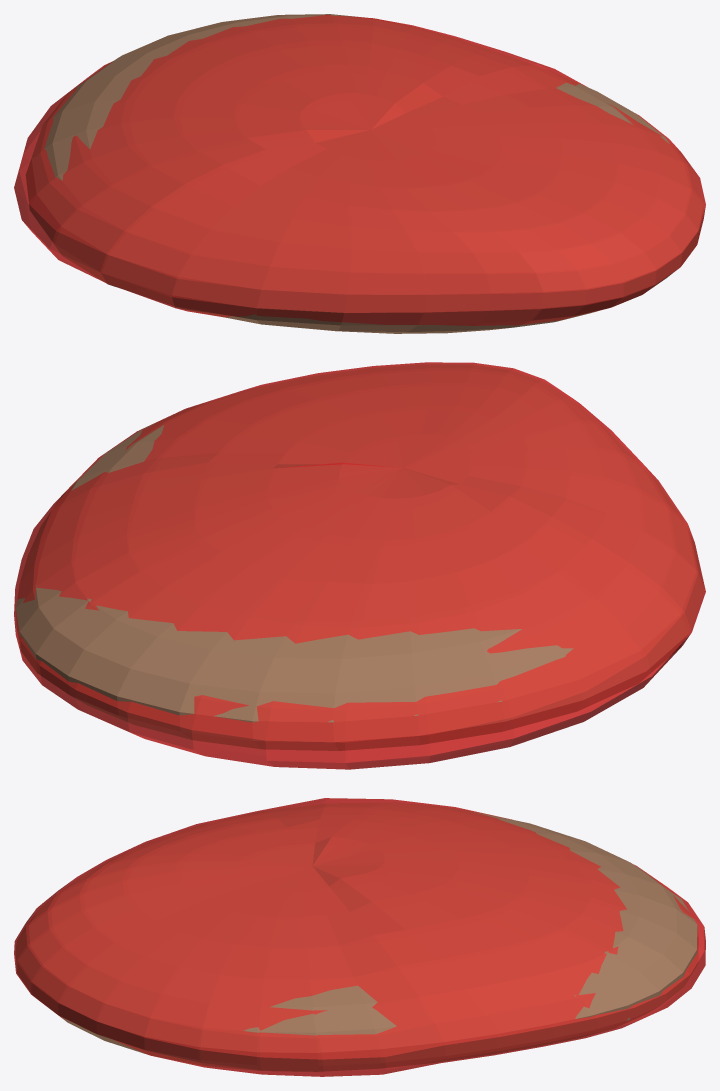
Rendered from CookedChickenParmYum.fbx.
The picture shows the model from 3 angles, top to bottom: view 1: azimuth 30°, elevation 25°; view 2: azimuth 150°, elevation 25°; view 3: azimuth 270°, elevation 25°; orthographic projection. The views are drawn at different scales.
Visible parts, largest first — view 1: Sphere, S A U C E; view 2: Sphere, S A U C E; view 3: Sphere, S A U C E.
Boxes of the visible parts, x1,y1,x2,y2 form: Sphere: [26, 14, 703, 333]; S A U C E: [14, 15, 705, 325]; Sphere: [16, 364, 704, 750]; S A U C E: [14, 362, 705, 769]; Sphere: [15, 802, 698, 1071]; S A U C E: [14, 798, 705, 1076].
Bounding box in the file's own units: 106 × 24.39 × 124.
